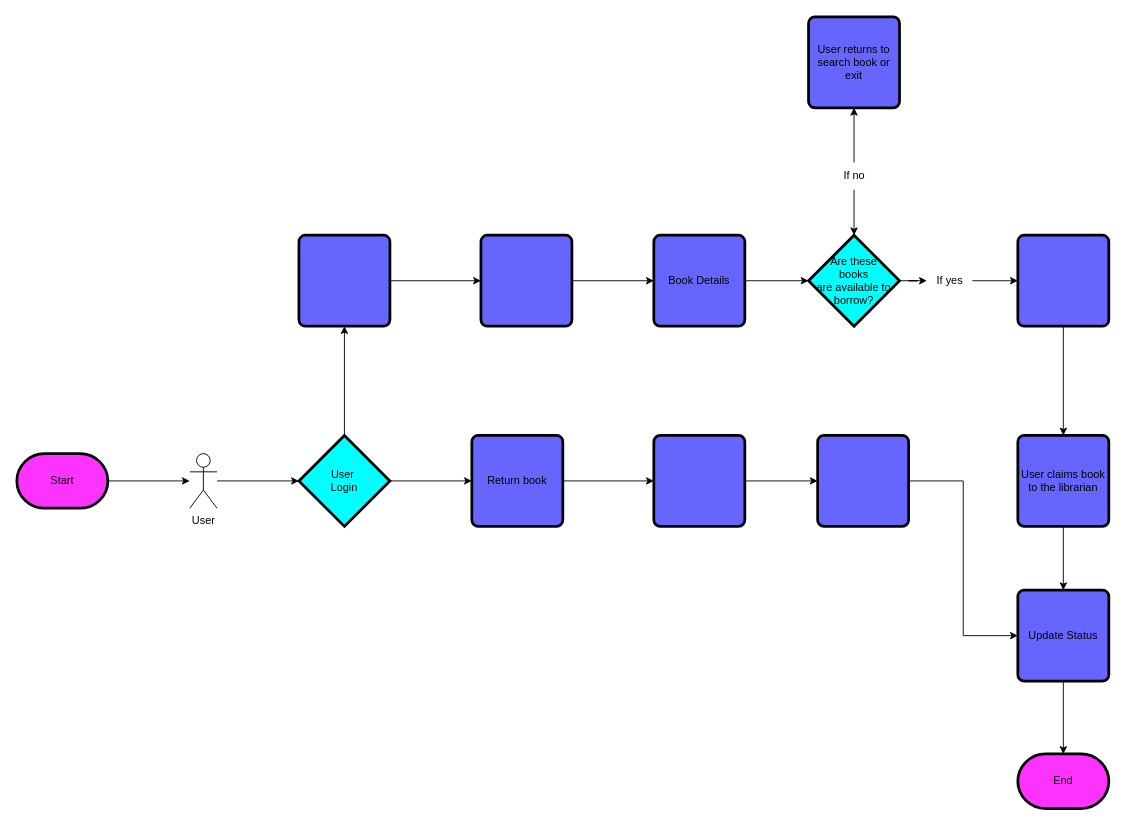
Image size: 1126x825. Some labels were removed from this diagram. The centre of each missing label's shape, as x and y in pixels:
"Display Results" goes at (x=526, y=280).
"Librarian claims The returned book" goes at (x=699, y=480).
"Librarian confirms the book return" goes at (x=863, y=480).
"Search Book" goes at (x=344, y=280).
"User Borrows Book" goes at (x=1063, y=280).
